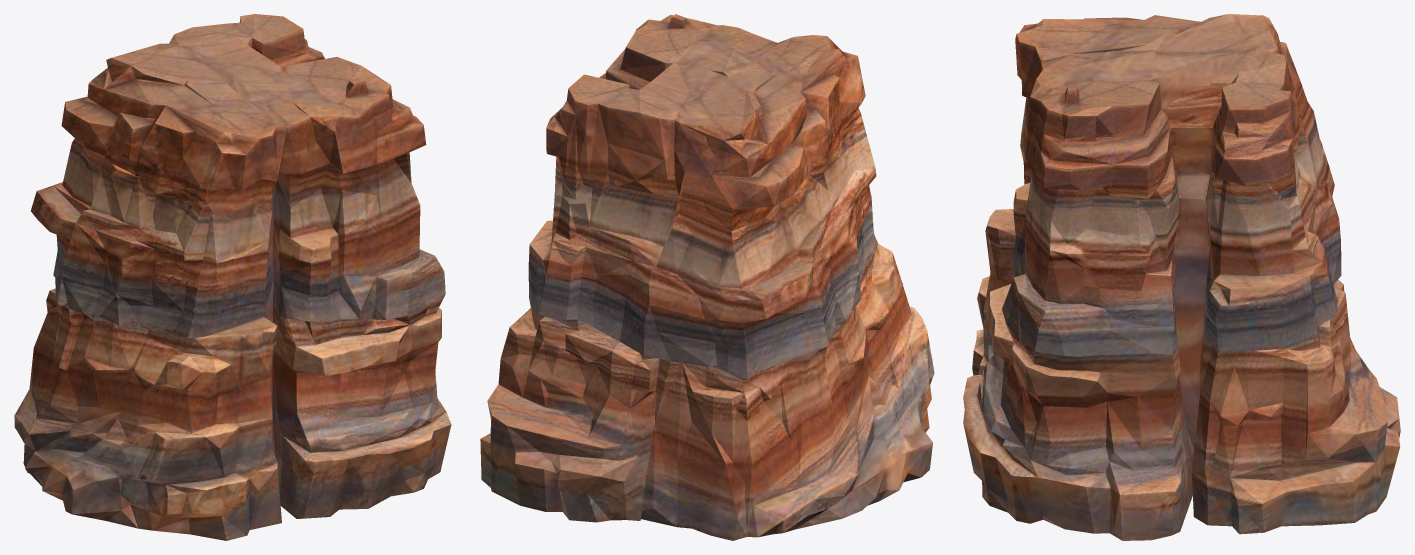
Rendered from cliff.glb.
3 views of the same model, side by side, from view 1: azimuth 30°, elevation 25°; view 2: azimuth 150°, elevation 25°; view 3: azimuth 270°, elevation 25° (orthographic). The views are drawn at different scales.
Visible parts, largest first — view 1: Mesh_0; view 2: Mesh_0; view 3: Mesh_0.
Part boxes in pixels (x1=…): Mesh_0: x1=14, y1=14, x2=451, y2=540; Mesh_0: x1=480, y1=14, x2=934, y2=540; Mesh_0: x1=963, y1=14, x2=1400, y2=540.
Size of the model in its own units: 1 by 1 by 0.9795.
Materials: 1 (1 with a texture image).
